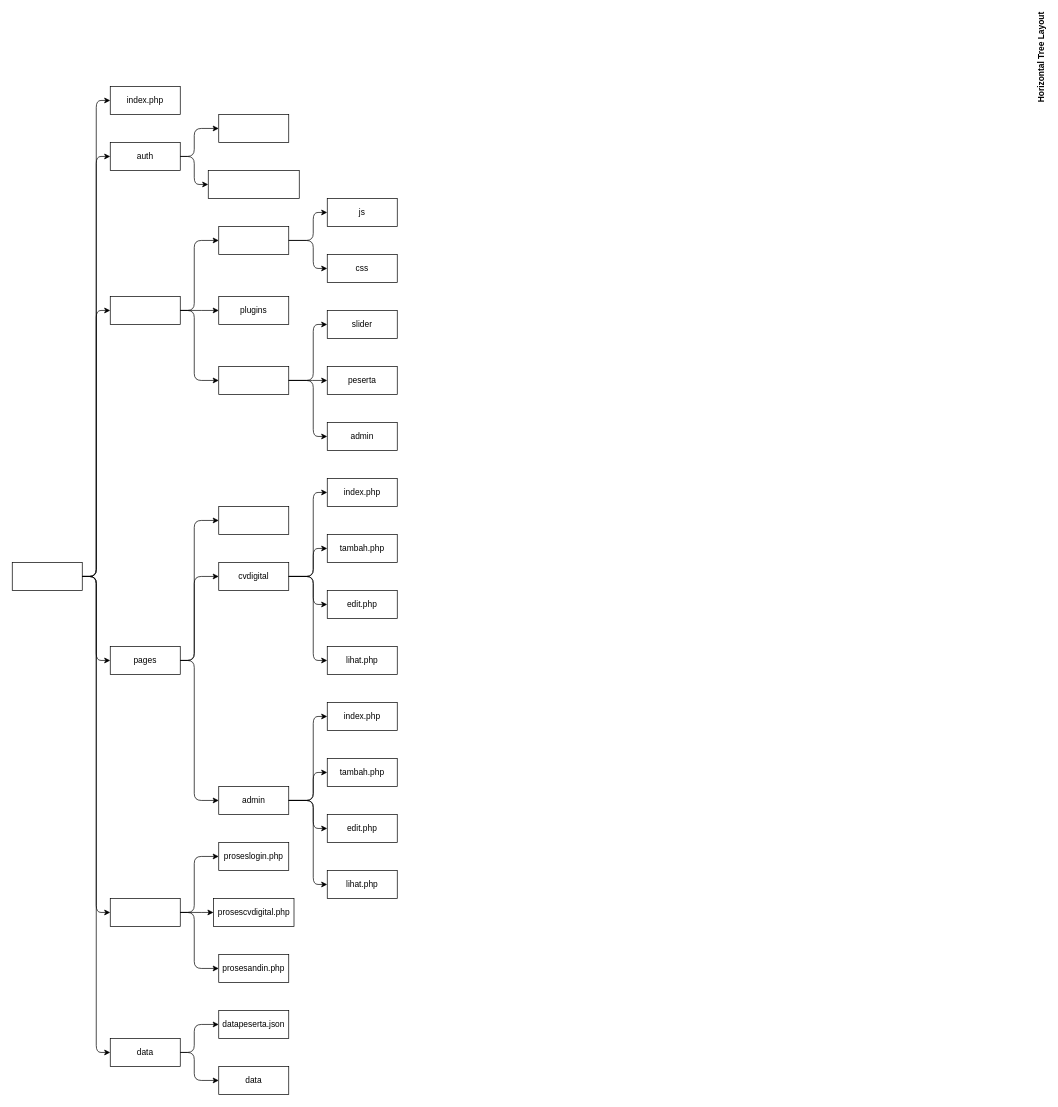
Some shapes in this 1058 by 1107 pixel diagram are drawn without their labels. The centre of each missing label's shape, as x and y in pixels:
assets: pixel 145 310
cvdigitalnovi: pixel 47 576
dashboard.php: pixel 253 520
dist: pixel 253 240
image: pixel 253 380
loginuser.php: pixel 253 128
proses: pixel 145 912
registrasipeserta.php: pixel 253 184
